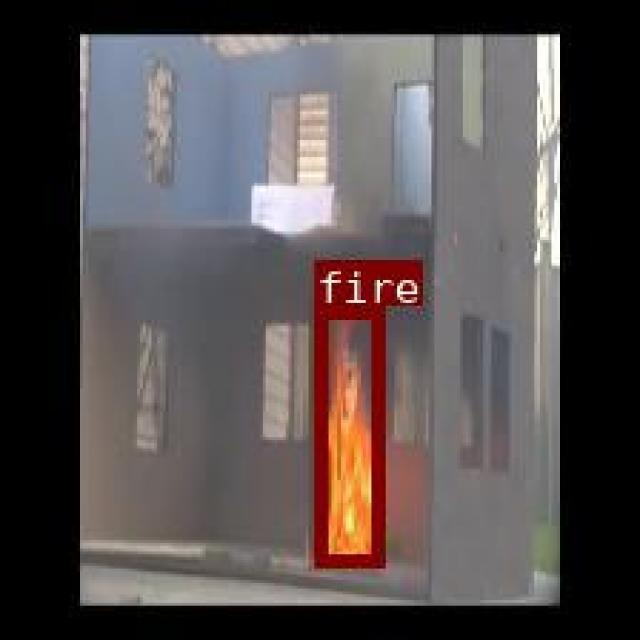fire: (313, 303, 383, 564)
